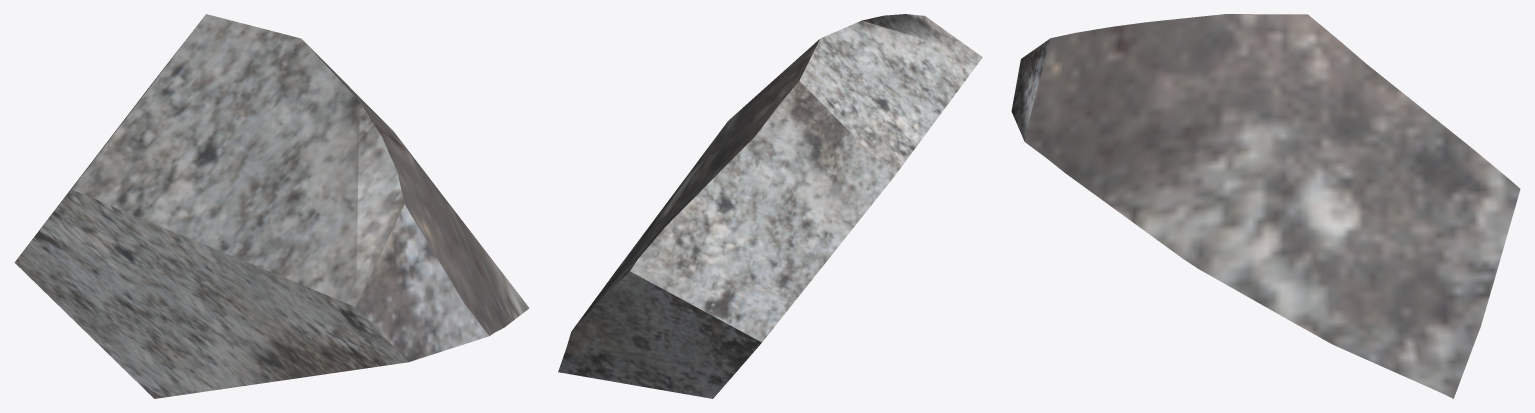
The model's file is Asteroid_Large_001_02_010_03_013.fbx.
The picture shows the model from 3 angles, left to right: view 1: azimuth 30°, elevation 25°; view 2: azimuth 150°, elevation 25°; view 3: azimuth 270°, elevation 25°; orthographic projection. The views are drawn at different scales.
Visible parts, largest first — view 1: Asteroid_Large_001_02_010_03_013; view 2: Asteroid_Large_001_02_010_03_013; view 3: Asteroid_Large_001_02_010_03_013.
Part boxes in pixels (x1,y1,x2,y2): Asteroid_Large_001_02_010_03_013: (14,14,529,398); Asteroid_Large_001_02_010_03_013: (558,14,982,398); Asteroid_Large_001_02_010_03_013: (1011,14,1520,398).
Bounding box in the file's own units: 6.78 × 7.22 × 10.87.
